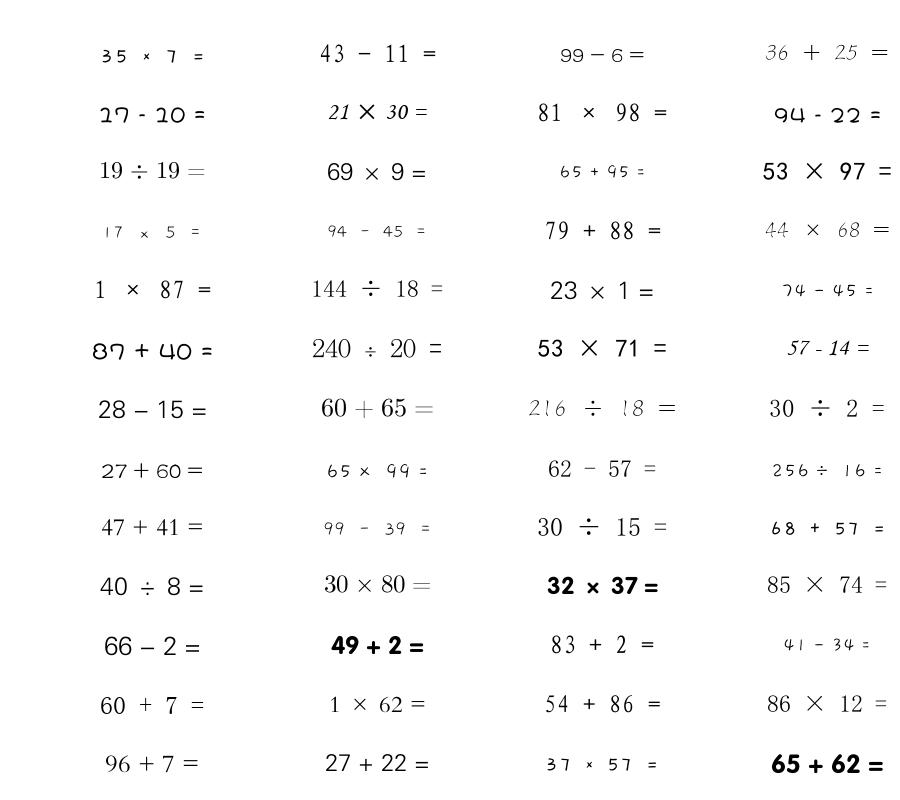MQ: (312, 338, 442, 358), (528, 400, 676, 417), (537, 103, 667, 122), (537, 517, 667, 536), (321, 398, 434, 419), (763, 162, 892, 180), (538, 339, 667, 357), (771, 754, 884, 774), (311, 280, 443, 297), (319, 44, 436, 63), (544, 221, 661, 240), (94, 280, 211, 299), (547, 576, 658, 595), (544, 695, 661, 713), (769, 399, 885, 417), (98, 400, 207, 419), (92, 343, 213, 360), (767, 576, 887, 593), (767, 695, 887, 712), (765, 222, 890, 238), (765, 44, 889, 60), (550, 281, 654, 300), (100, 577, 204, 596), (550, 635, 654, 654), (104, 636, 201, 656), (99, 161, 206, 179), (324, 575, 431, 593), (327, 162, 427, 181), (331, 635, 424, 655), (548, 460, 656, 477), (325, 754, 430, 771), (100, 697, 204, 714), (101, 519, 204, 536), (101, 462, 203, 479), (98, 107, 206, 123), (774, 107, 881, 123), (105, 755, 199, 773), (329, 696, 426, 713), (769, 521, 886, 535), (326, 463, 428, 479), (327, 104, 427, 120), (771, 464, 883, 478), (323, 522, 432, 536), (545, 758, 659, 771), (100, 49, 205, 63), (786, 340, 869, 356), (781, 284, 874, 298), (102, 226, 202, 239), (327, 225, 427, 238), (783, 638, 871, 652), (559, 165, 646, 179), (560, 48, 644, 62)
